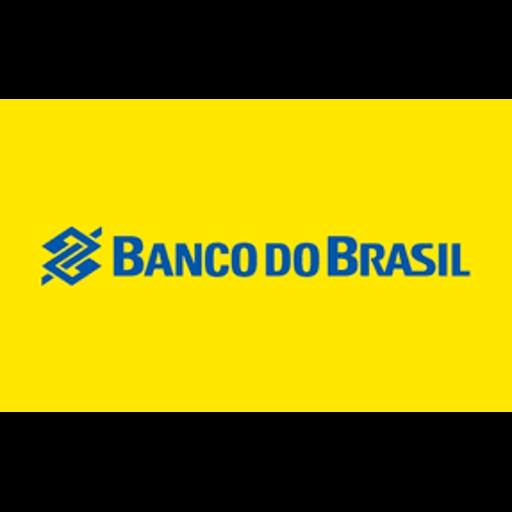Banco do Brasil S-A: (0, 99, 512, 412)
